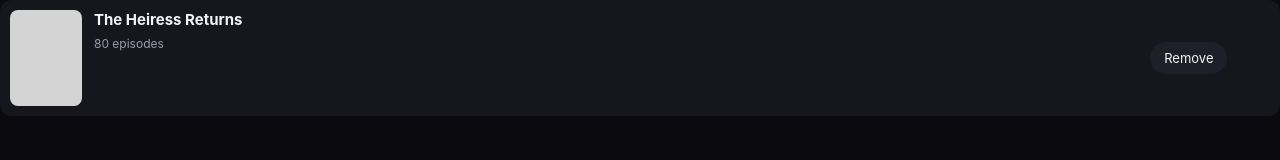
Test case: un-following from the row › keeps the row in place, un-followed, with an undo
This screenshot has width=1280, height=160.
Step 1. Click the button with test id "favorite-remove" → (1189, 58), box [1150,42,1227,74]
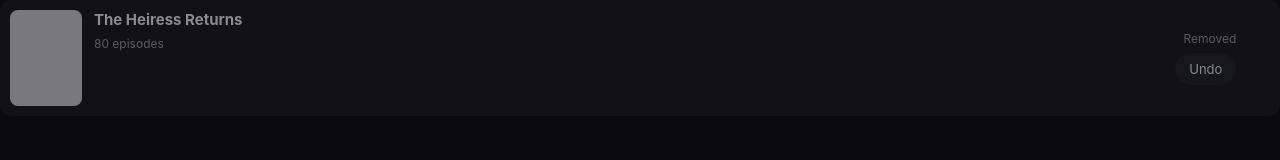
Expected: the text "Removed" is shown, [1184,31,1236,47]
Expected: the button with test id "favorite-undo" is shown, [1175,53,1236,85]
Expected: the button with test id "favorite-remove" is gone
